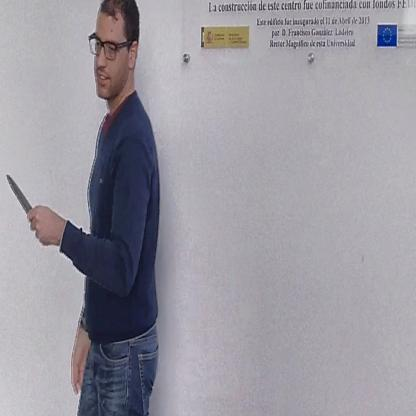knife: (2, 168, 43, 235)
